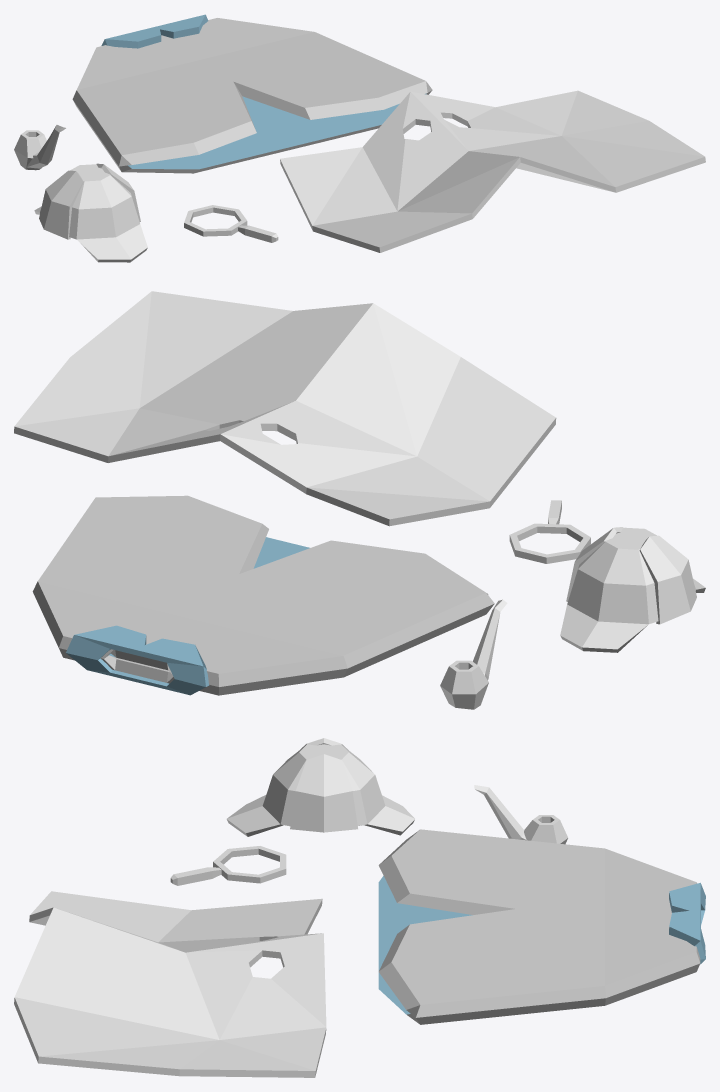
Rendered from Outfit_sherlock.fbx.
3 views of the same model, one above another, from view 1: azimuth 30°, elevation 25°; view 2: azimuth 150°, elevation 25°; view 3: azimuth 270°, elevation 25° (orthographic). The views are drawn at different scales.
Parts seen in each view (by area): view 1: Sherlock_coat, Sherlock_newspaper, Sherlock_hat, Sherlock_magnifying glass, Sherlock_pipe; view 2: Sherlock_newspaper, Sherlock_coat, Sherlock_hat, Sherlock_pipe, Sherlock_magnifying glass; view 3: Sherlock_coat, Sherlock_newspaper, Sherlock_hat, Sherlock_magnifying glass, Sherlock_pipe.
Part boxes in pixels (box(x1,y1,x2,y2)): Sherlock_coat: box(72, 14, 432, 173); Sherlock_newspaper: box(280, 90, 705, 252); Sherlock_hat: box(34, 163, 147, 262); Sherlock_magnifying glass: box(184, 205, 278, 242); Sherlock_pipe: box(14, 125, 65, 170); Sherlock_newspaper: box(14, 291, 556, 526); Sherlock_coat: box(32, 495, 494, 695); Sherlock_hat: box(560, 527, 705, 652); Sherlock_pipe: box(440, 599, 507, 709); Sherlock_magnifying glass: box(509, 500, 590, 563); Sherlock_coat: box(378, 829, 705, 1024); Sherlock_newspaper: box(14, 891, 326, 1077); Sherlock_hat: box(226, 738, 414, 836); Sherlock_magnifying glass: box(170, 846, 286, 885); Sherlock_pipe: box(474, 785, 567, 844).
Size of the model in its own units: 12.11 by 2.03 by 11.26.
